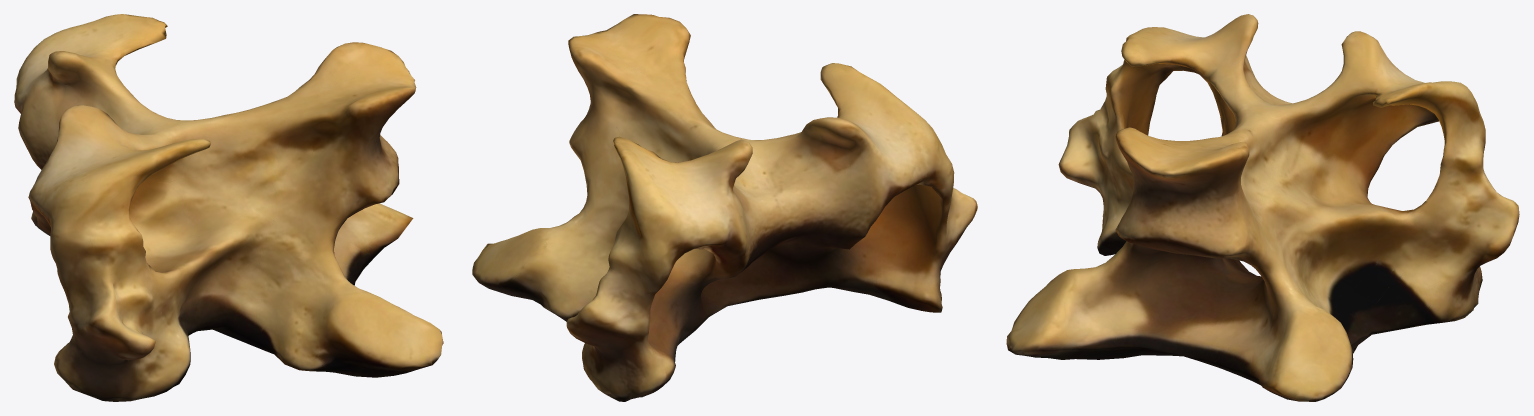
The model's file is vertebra_muestra_ave.glb.
3 views of the same model, side by side, from view 1: azimuth 30°, elevation 25°; view 2: azimuth 150°, elevation 25°; view 3: azimuth 270°, elevation 25° (orthographic). The views are drawn at different scales.
Visible parts, largest first — view 1: 3DModel; view 2: 3DModel; view 3: 3DModel.
Boxes of the visible parts, x1,y1,x2,y2 form: 3DModel: [14, 14, 443, 401]; 3DModel: [472, 14, 977, 401]; 3DModel: [1006, 14, 1519, 401].
Bounding box in the file's own units: 0.2216 × 0.1254 × 0.2352.
1 material, 1 textured.
